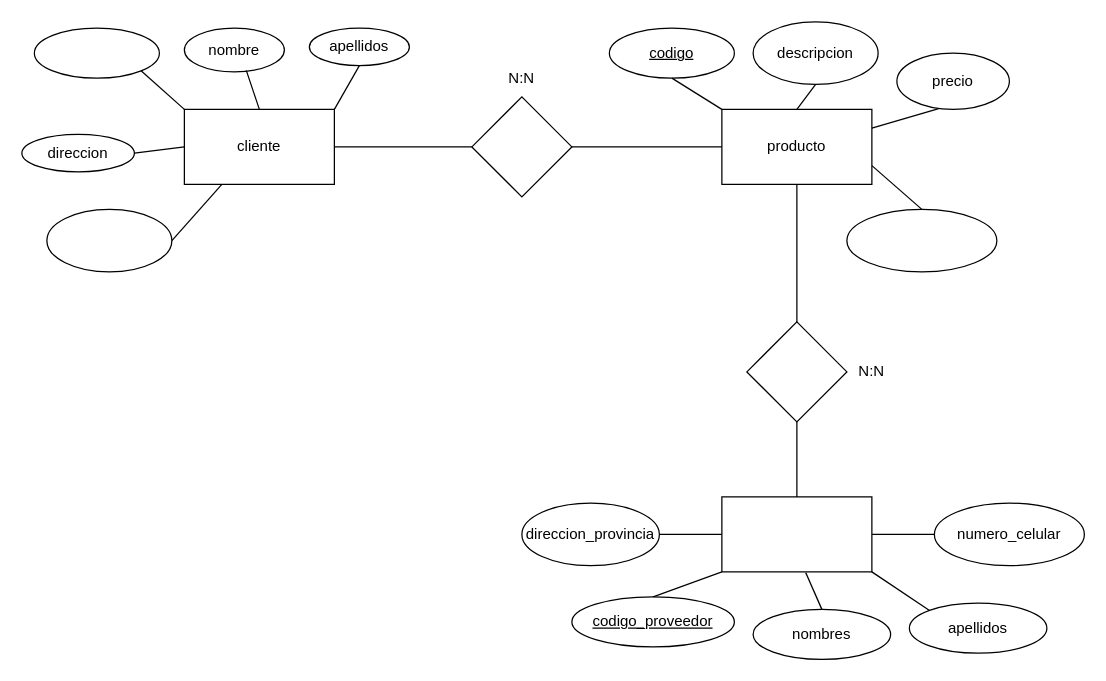
This 1106x681 diagram has some shape labels left out. The shapes that lost their labels are listed below. From the top down, each one's box as (x1, y1, x2, y2) in pixels, then its label:
(33, 27, 159, 78): codigo_cliente
(471, 96, 572, 197): compra
(46, 208, 172, 272): numero_telefono
(846, 208, 997, 272): numero_existencias
(746, 321, 847, 422): suministra
(721, 496, 872, 572): proveedor
